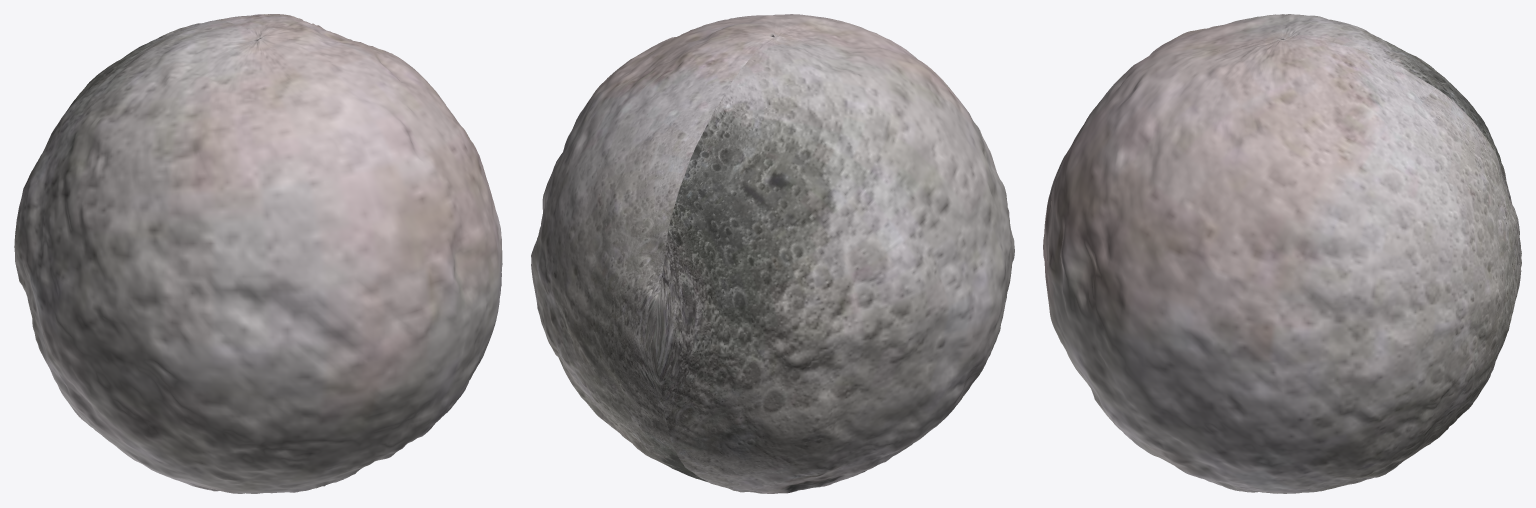
Rendered from Moon.fbx.
3 renders of one model, left to right at view 1: azimuth 30°, elevation 25°; view 2: azimuth 150°, elevation 25°; view 3: azimuth 270°, elevation 25°, orthographic.
Visible parts, largest first — view 1: Landscape; view 2: Landscape; view 3: Landscape.
Part boxes in pixels (bbox=[...]): Landscape: bbox=[14, 14, 502, 493]; Landscape: bbox=[531, 14, 1014, 493]; Landscape: bbox=[1043, 14, 1521, 493].
Size of the model in its own units: 695 by 698 by 694.
